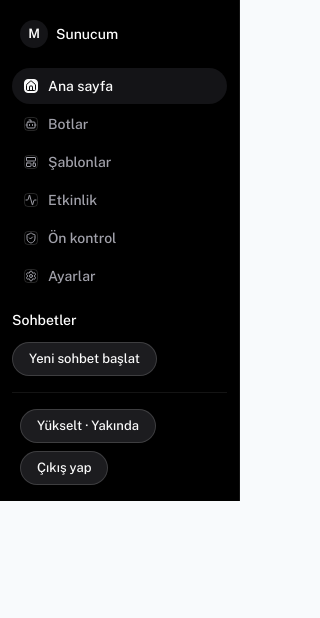
Test case: DashboardRail › repro: rail Log out failure shows an inline error and stays put
The width and height of the screenshot is (320, 618).
Step 1. Click the button "Çıkış yap" → (64, 468), box x1=20 y1=451 x2=108 y2=485
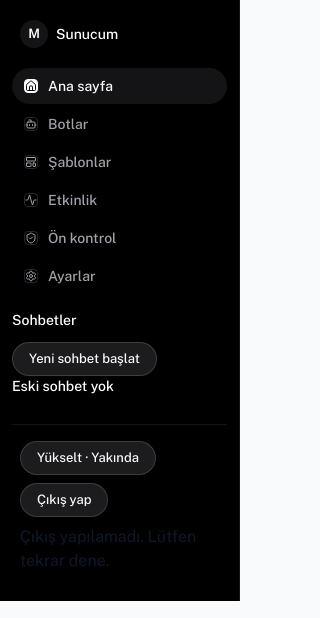
Expected: the message "Çıkış yapılamadı. Lütfen tekrar dene." is shown, x1=20 y1=525 x2=219 y2=573
Expected: the message reads "Çıkış yapılamadı. Lütfen tekrar dene.", x1=20 y1=527 x2=196 y2=570
